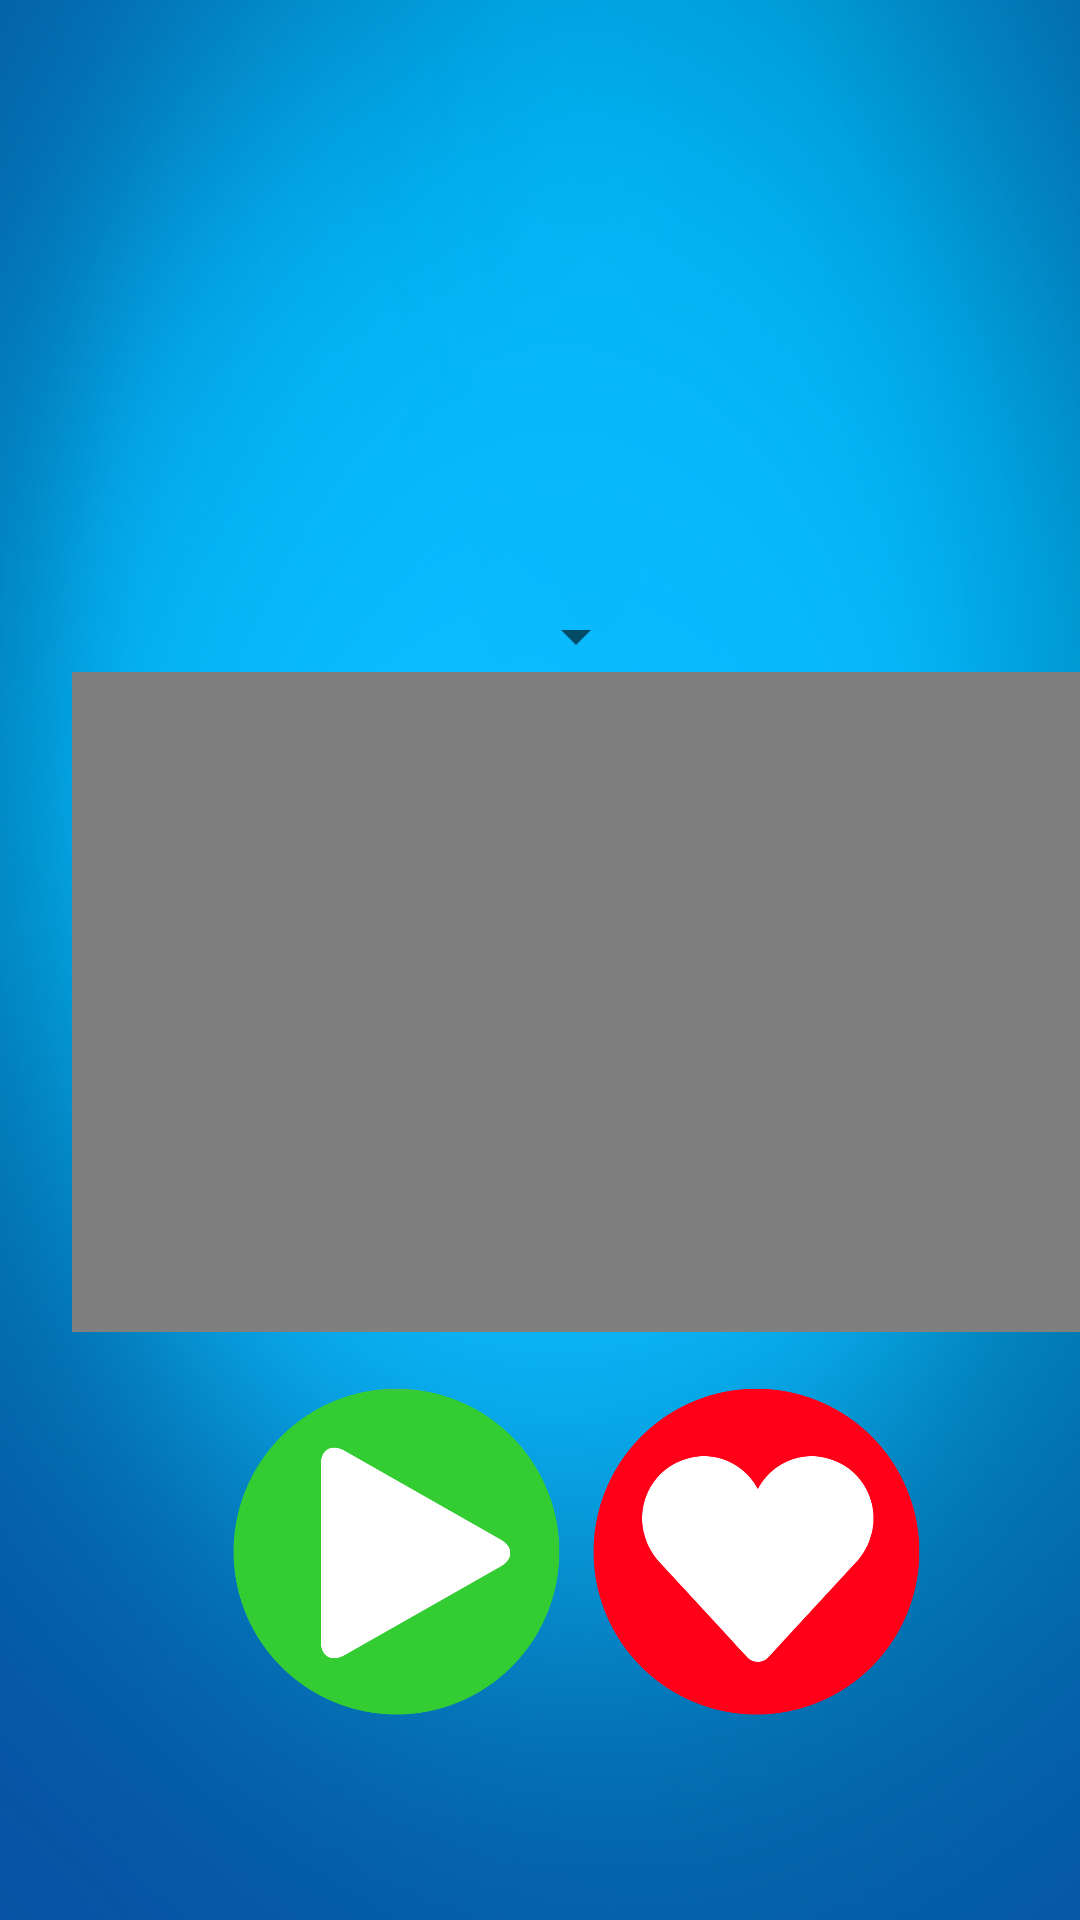

Point at icon controls on the screen. Image size 1080 x 1920, points as (x=x, y=y).
favorite: (x=756, y=1548)
play: (x=396, y=1548)
